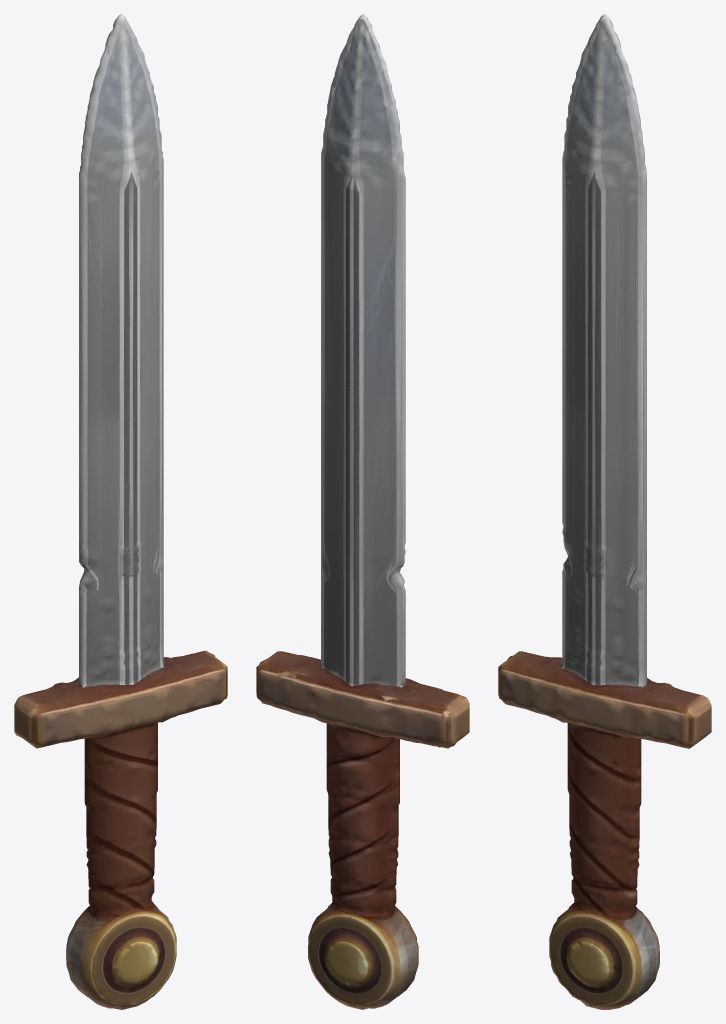
The model's file is sword.glb.
3 views of the same model, side by side, from view 1: azimuth 30°, elevation 25°; view 2: azimuth 150°, elevation 25°; view 3: azimuth 330°, elevation 25° (orthographic).
Visible parts, largest first — view 1: Mesh_0; view 2: Mesh_0; view 3: Mesh_0.
Boxes of the visible parts, x1,y1,x2,y2 form: Mesh_0: (14, 14, 227, 1009); Mesh_0: (256, 14, 469, 1009); Mesh_0: (498, 14, 711, 1009).
Size of the model in its own units: 0.4031 by 1.91 by 0.1136.
1 material, 1 textured.
